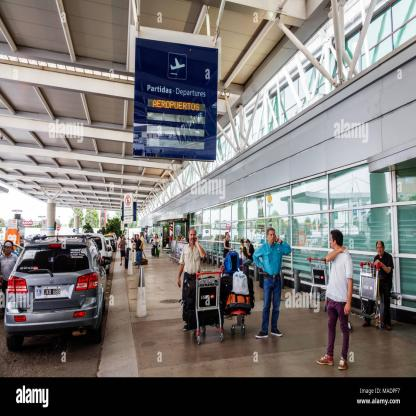airport-trolley: (339, 258, 383, 332), (187, 268, 230, 342), (304, 254, 329, 312)
